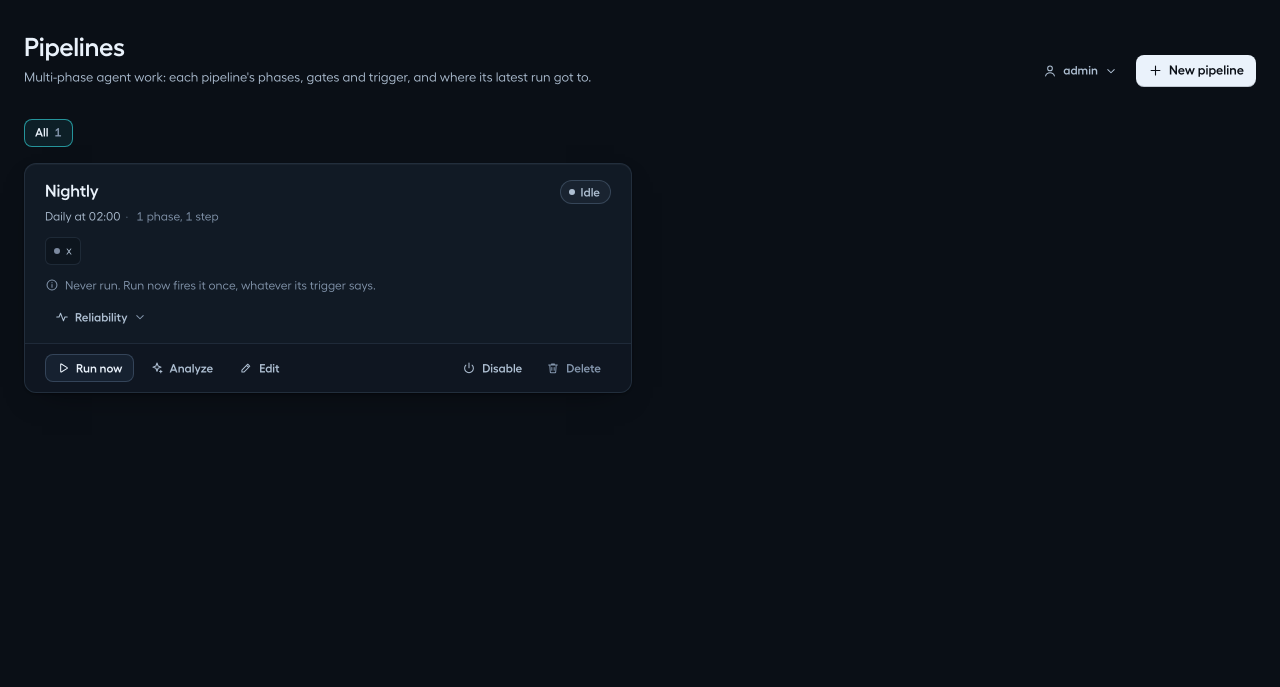
Test case: Pipelines tab — spawn phases › counts several live parents
The image size is (1280, 687).
Click the button "Edit". click: (259, 368)
box: [229, 354, 290, 382]
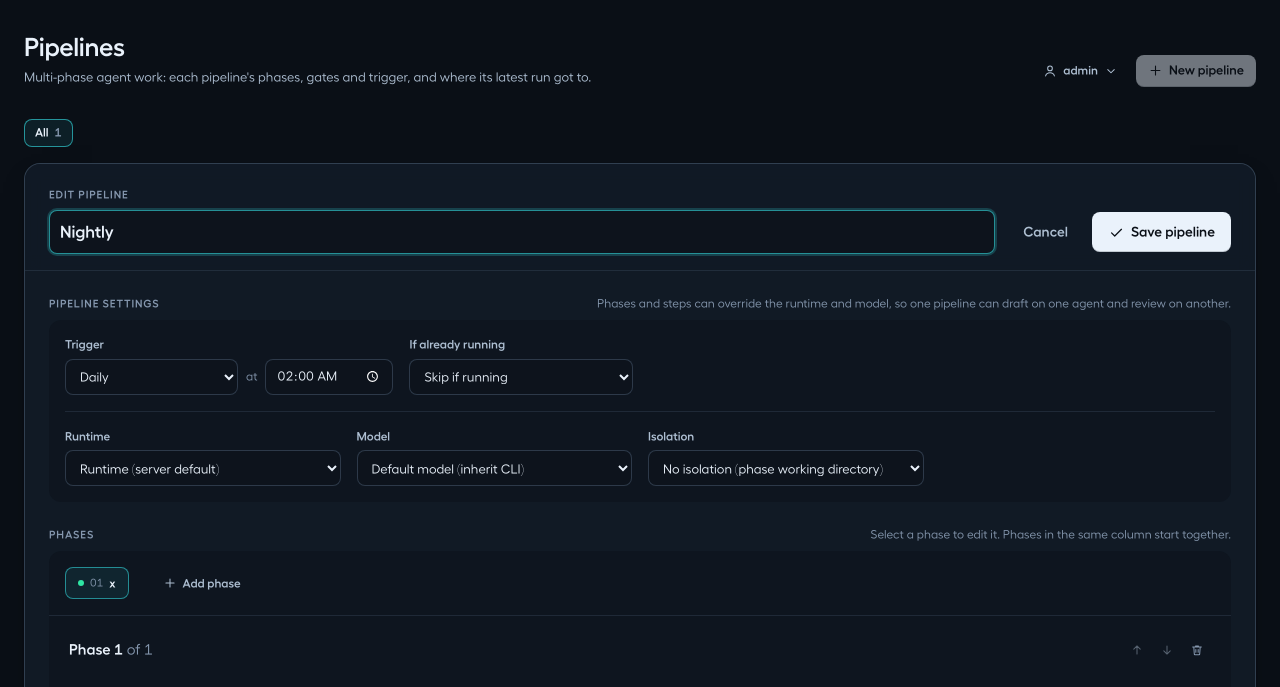
Click the button "Save pipeline". click: (1161, 232)
box: [1092, 212, 1231, 252]
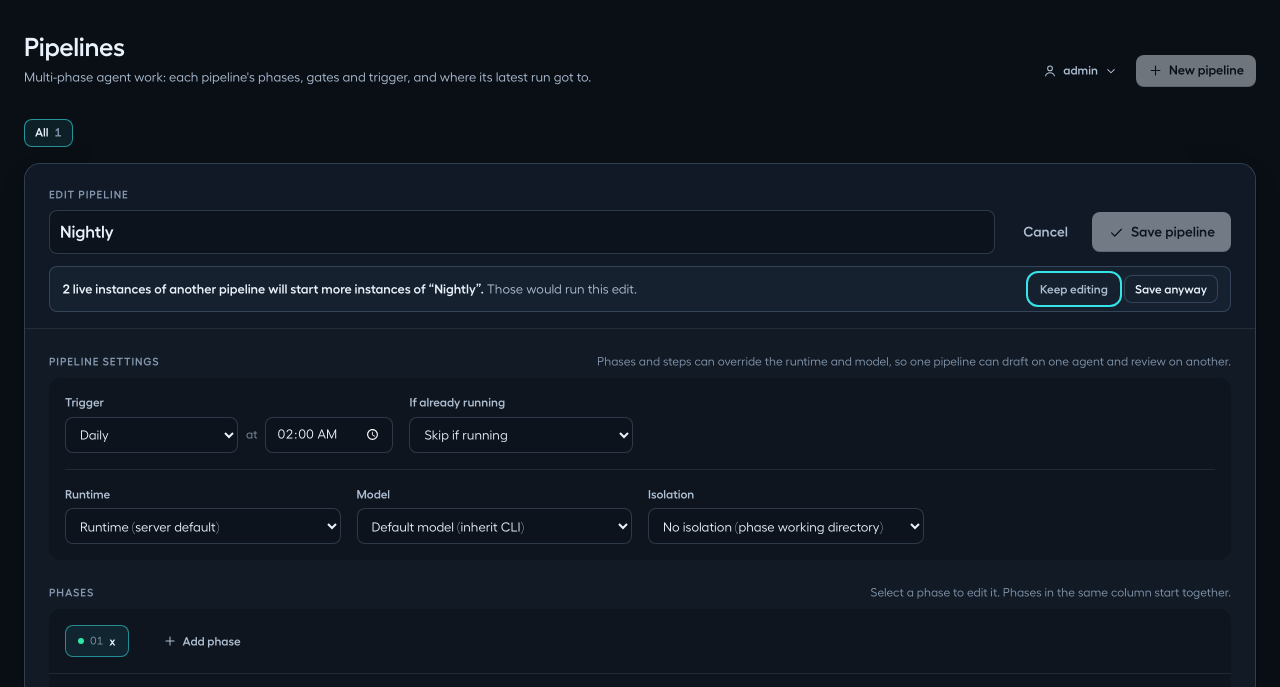
Expected: the element "2 live instances of another pipeline will start more instances of “Nightly”." is shown, [49, 266, 1231, 312]
